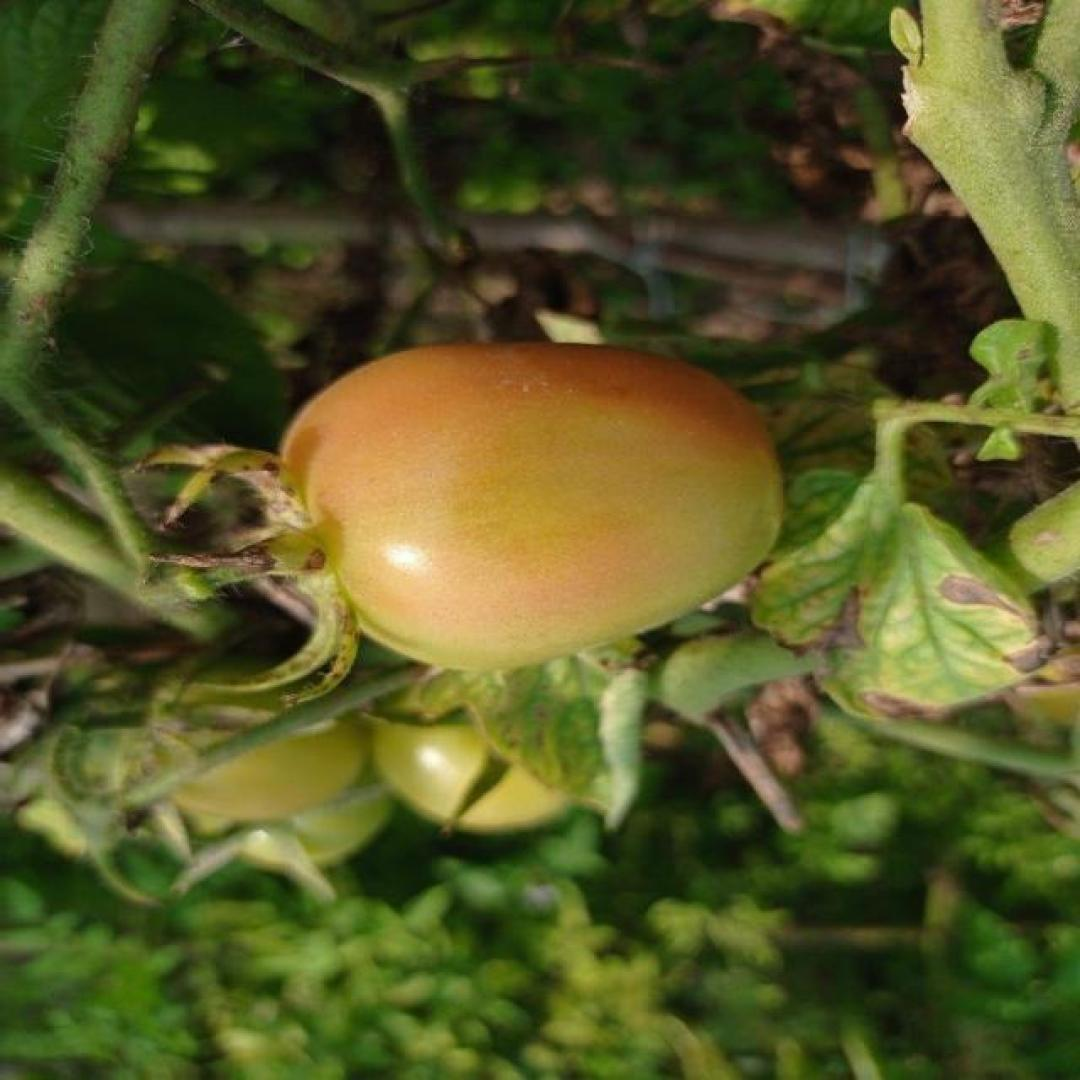setengah_matang: (275, 342, 790, 672)
